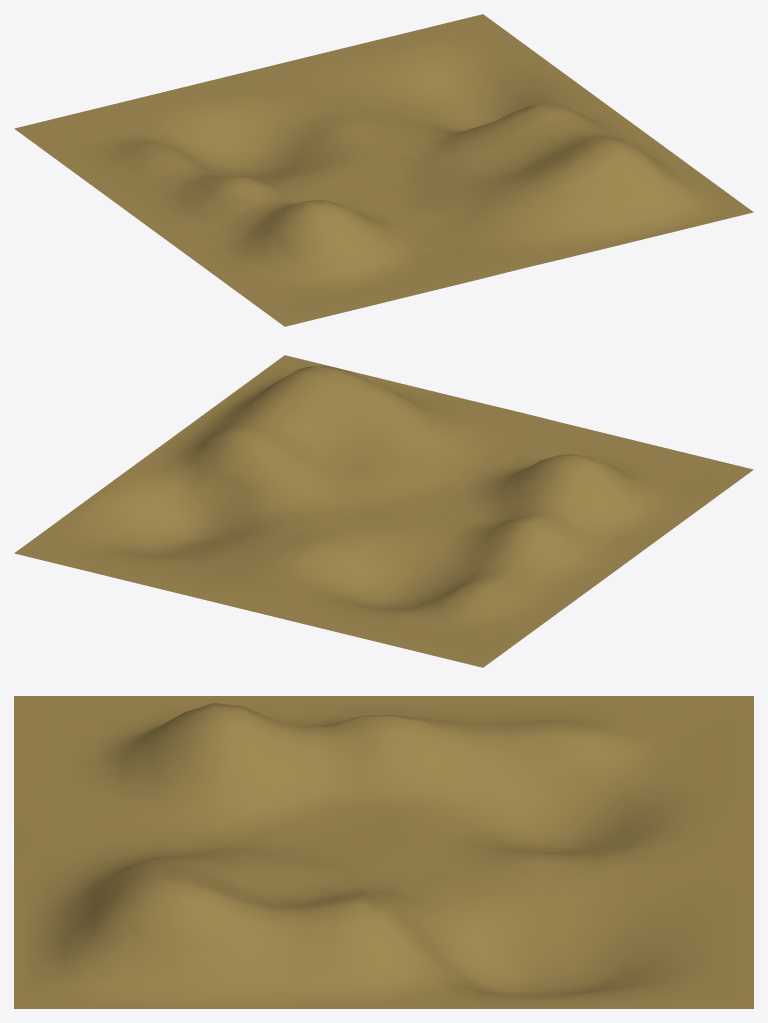
The model's file is seabed.dae.
3 views of the same model, one above another, from view 1: azimuth 30°, elevation 25°; view 2: azimuth 150°, elevation 25°; view 3: azimuth 270°, elevation 25° (orthographic). The views are drawn at different scales.
Visible parts, largest first — view 1: seafloor; view 2: seafloor; view 3: seafloor.
Boxes of the visible parts, bbox=[...] form: seafloor: bbox=[14, 14, 753, 326]; seafloor: bbox=[14, 355, 753, 667]; seafloor: bbox=[14, 696, 753, 1008].
Bounding box in the file's own units: 100 × 100 × 15.28.
